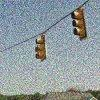traffic lights: (72, 9, 86, 39)
